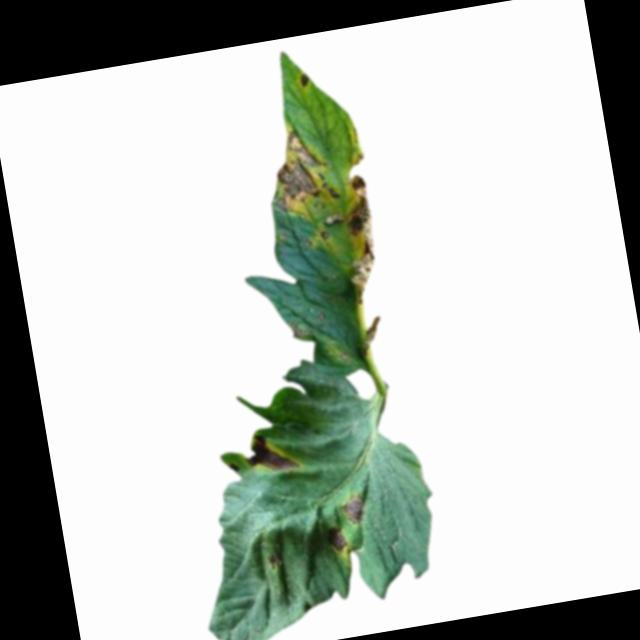Early_blight: (326, 154, 386, 301), (257, 124, 336, 215), (243, 431, 301, 482), (341, 496, 368, 522), (332, 531, 351, 554), (298, 71, 314, 93)
